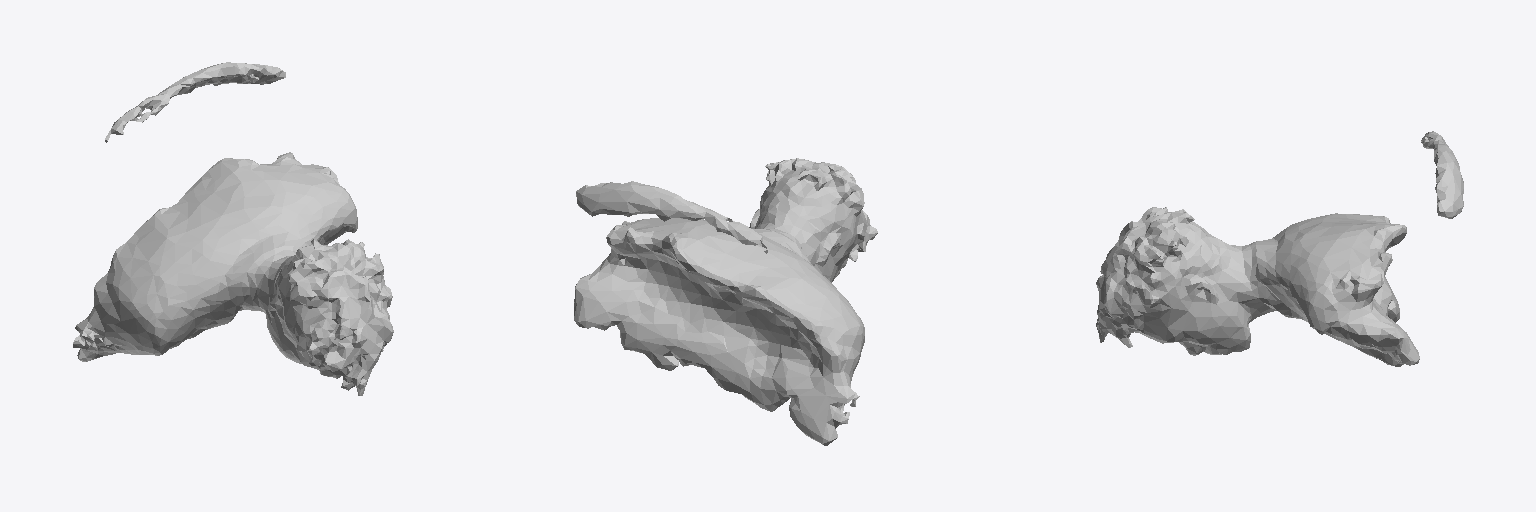
The model's file is profile.obj.
The picture shows the model from 3 angles: view 1: azimuth 30°, elevation 25°; view 2: azimuth 150°, elevation 25°; view 3: azimuth 270°, elevation 25°; orthographic projection.
Bounding box in the file's own units: 0.5452 × 0.4718 × 0.655.